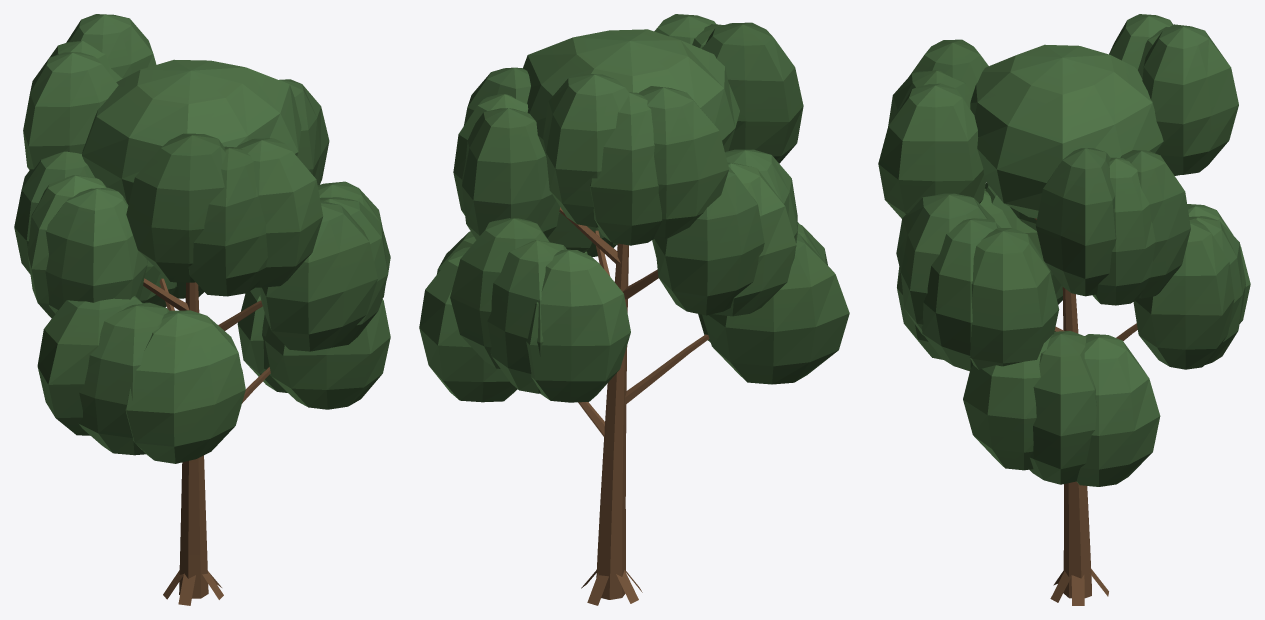
File: l-tree.glb
The picture shows the model from 3 angles, left to right: view 1: azimuth 30°, elevation 25°; view 2: azimuth 150°, elevation 25°; view 3: azimuth 270°, elevation 25°; orthographic projection. The views are drawn at different scales.
Parts seen in each view (by area): view 1: LowPolyCanopy, LowPolyWood; view 2: LowPolyCanopy, LowPolyWood; view 3: LowPolyCanopy, LowPolyWood.
Boxes of the visible parts, <box> form: LowPolyCanopy: <box>14,14,390,463</box>; LowPolyWood: <box>143,278,270,605</box>; LowPolyCanopy: <box>419,14,849,402</box>; LowPolyWood: <box>559,207,709,605</box>; LowPolyCanopy: <box>878,14,1250,486</box>; LowPolyWood: <box>1035,218,1137,605</box>.
Bounding box in the file's own units: 1.54 × 2.2 × 1.35.
